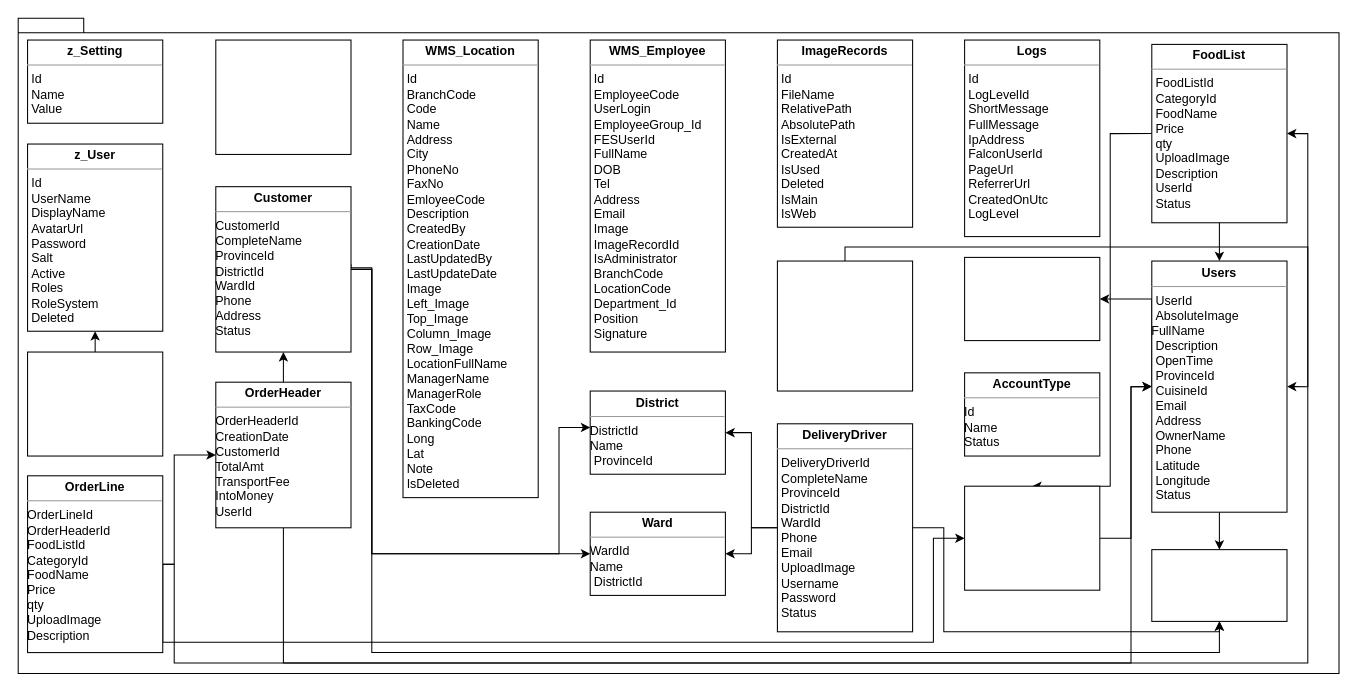
The diagram is 1357 pixels wide and 692 high, and some of its shapes have lost their labels. The shapes that lost their labels are listed below. From the top down, each one's centre as x and y in pixels, then its label:
At pixel 283 96: "z_Role SystemName Display Permissons UserCanDeleted LockEditProduct".
At pixel 1032 298: "Cuisine CuisineId AbsoluteImage Name".
At pixel 844 325: "Account Id UserId Username Password Status AccountId".
At pixel 95 403: "z_UserClaim UserId ClaimName ClaimValue Deleted".
At pixel 1032 537: "CategoryList CategoryId CategoryName UserId Status".
At pixel 1219 585: "Province ProvinceId Name".
